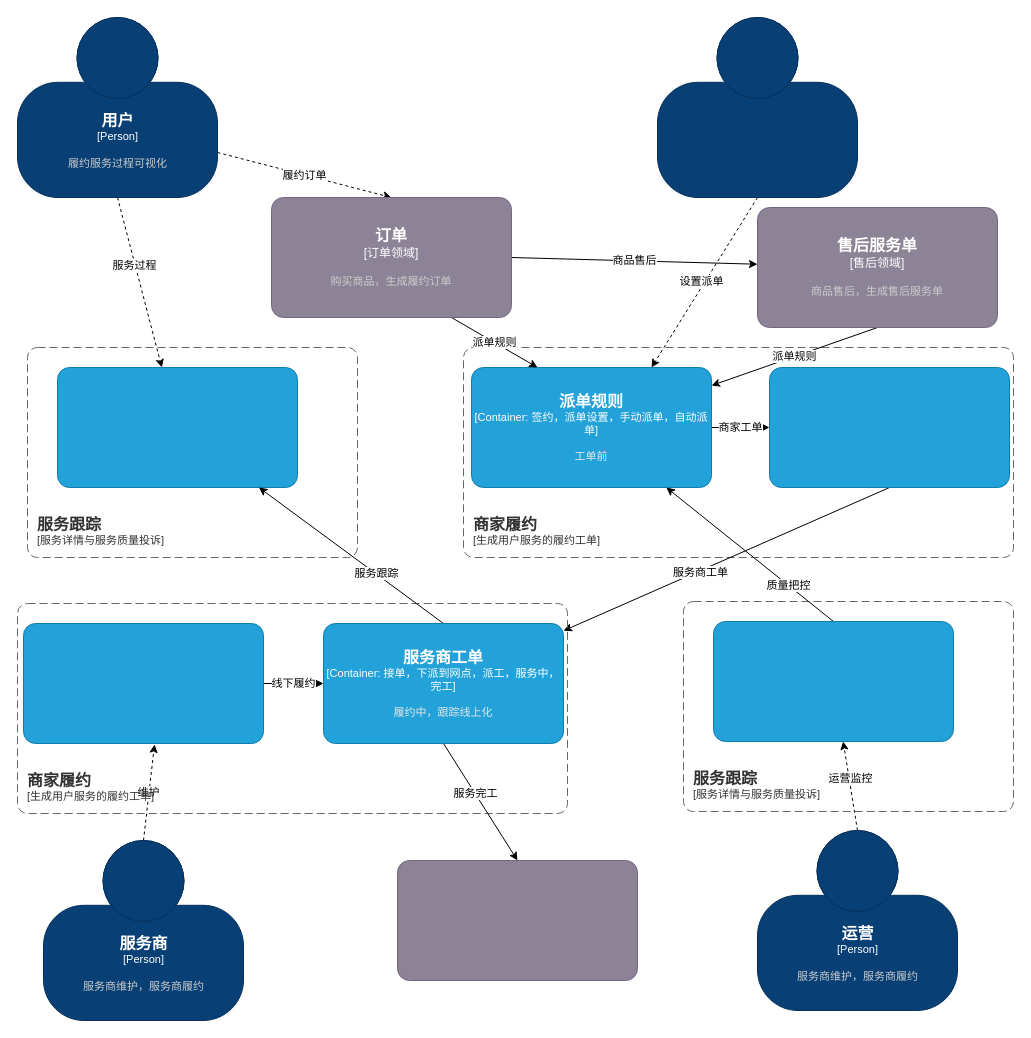
This 1031x1038 diagram has some shape labels left out. The centre of each missing label's shape, as x and y in pixels:
"商家 [Person] 商家履约，生成对用户的履约工单" belongs at [757,107].
"商家工单 [Container: 改派，取消，修改工单] 履约中" belongs at [889,427].
"服务商管理 [Container: 入驻，服务人员，服务网点] 服务商基础信息" belongs at [143,683].
"服务跟踪 [Container: 服务楼层，服务详情，二次安装申请] 用户查询服务信息，工单投诉及二次申请" belongs at [177,427].
"计费 [计费领域] 履约工单计费" belongs at [517,920].
"运营工作台 [Container: 服务监控] 服务商管理，服务产品，自营工单" belongs at [833,681].
